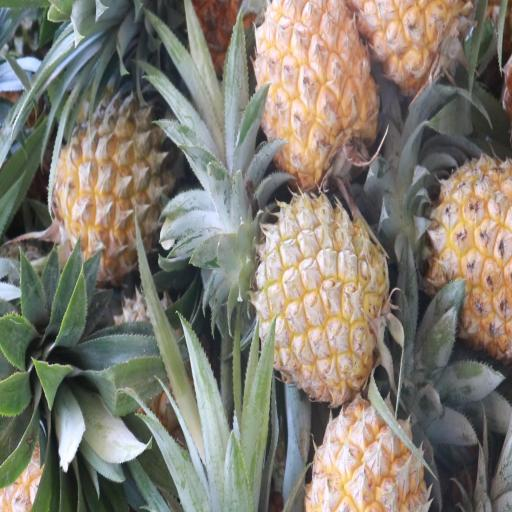------------------------------: (46, 103, 169, 275)
Pineapple - v8 v1: (254, 190, 385, 404), (255, 0, 379, 185), (425, 157, 512, 356), (307, 389, 444, 512)
